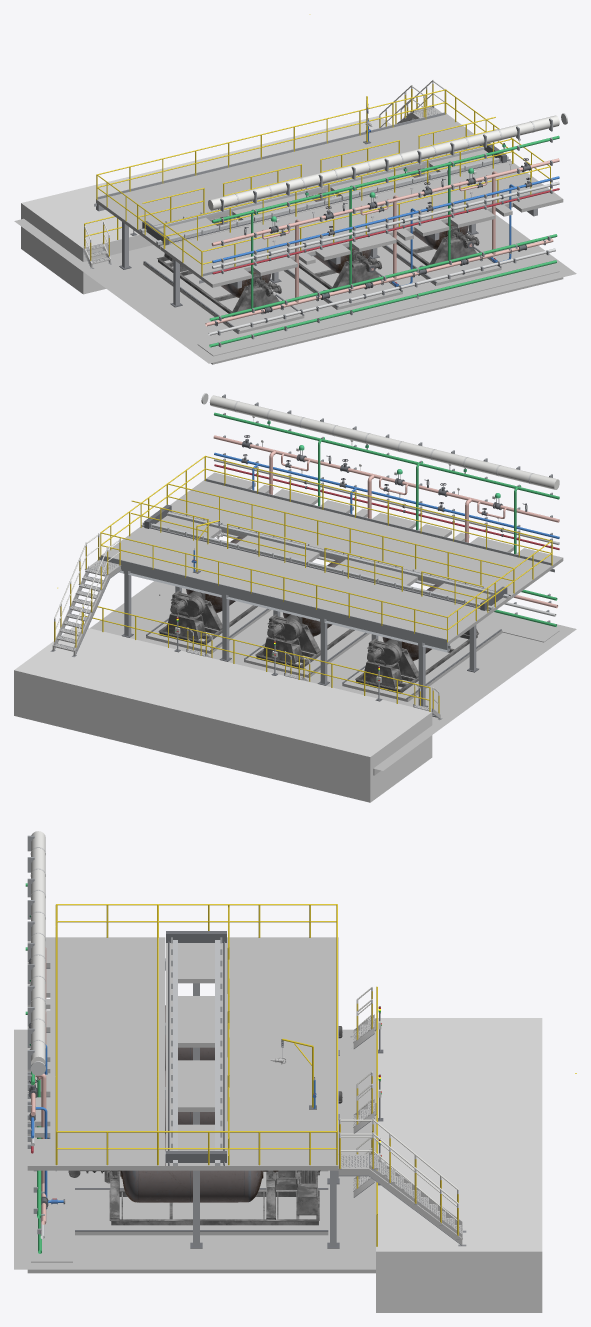
The model's file is Автоклав.fbx.
The picture shows the model from 3 angles, top to bottom: view 1: azimuth 30°, elevation 25°; view 2: azimuth 150°, elevation 25°; view 3: azimuth 270°, elevation 25°; orthographic projection. The views are drawn at different scales.
Parts seen in each view (by area): view 1: Deck.069, Deck.062, Cube, Building.003, Building.027, Pipes_Upper_Wall.444, Building.008, Slot_1.003, Building.014, 1.002, Railings.151, Pipes_Upper_Wall.069 (+31 smaller); view 2: Cube, Deck.062, Deck.069, Building.003, Pipes_Upper_Wall.444, steel_dust, 1.002, Deck.209, 1.001, 1, Building.014, Railings.151 (+29 smaller); view 3: Cube, Deck.062, Deck.069, Building.003, Slot_3.003, 1, steel_dust, 2, Pipes_Upper_Wall.444, Building.008, Building.027, Deck.111 (+10 smaller).
Part boxes in pixels (box(x1,y1,x2,y2)): Deck.069: box(97, 114, 479, 229); Deck.062: box(161, 161, 553, 280); Cube: box(21, 116, 436, 294); Building.003: box(23, 218, 562, 357); Building.027: box(198, 259, 559, 355); Pipes_Upper_Wall.444: box(210, 115, 559, 210); Building.008: box(213, 272, 567, 361); Slot_1.003: box(146, 258, 302, 330); Building.014: box(14, 219, 216, 363); 1.002: box(157, 253, 281, 316); Railings.151: box(164, 138, 513, 248); Pipes_Upper_Wall.069: box(208, 248, 555, 335); Cube: box(14, 627, 432, 802); Deck.062: box(170, 480, 554, 598); Deck.069: box(99, 527, 487, 641); Building.003: box(98, 583, 562, 768); Pipes_Upper_Wall.444: box(209, 395, 557, 489); steel_dust: box(50, 533, 121, 657); 1.002: box(355, 629, 478, 693); Deck.209: box(99, 557, 447, 648); 1.001: box(255, 614, 354, 669); 1: box(158, 590, 257, 645); Building.014: box(374, 627, 576, 770); Railings.151: box(166, 483, 513, 592); Cube: box(376, 1018, 542, 1312); Deck.062: box(50, 937, 165, 1165); Deck.069: box(227, 937, 338, 1165); Building.003: box(27, 1035, 375, 1263); Slot_3.003: box(75, 1189, 328, 1229); 1: box(69, 1170, 320, 1225); steel_dust: box(338, 1118, 466, 1246); 2: box(120, 1134, 278, 1202); Pipes_Upper_Wall.444: box(31, 831, 45, 1061); Building.008: box(14, 1035, 27, 1263); Building.027: box(31, 1062, 72, 1261); Deck.111: box(166, 1060, 226, 1107).
Size of the model in its own units: 1680 by 815 by 1666.
